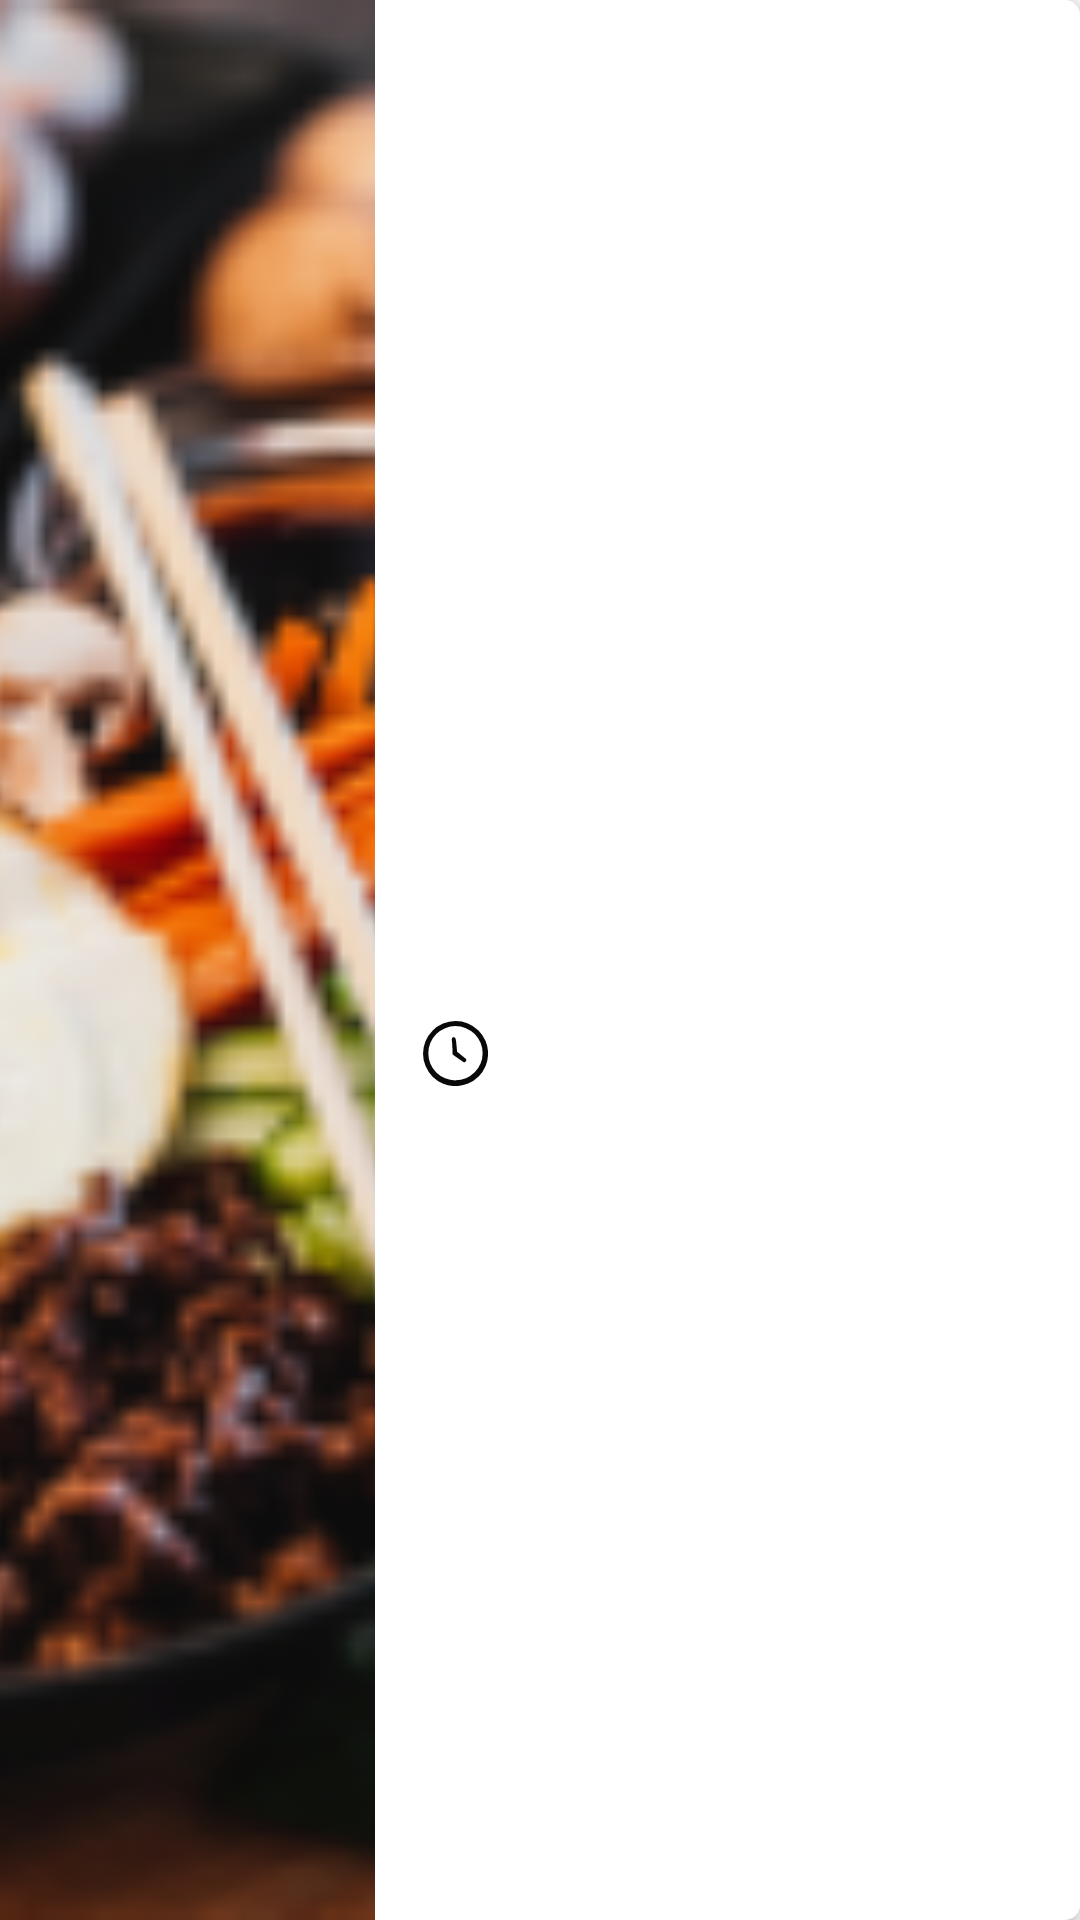

Named icons in this screenshot (1080w x 1920h) and their centers, (x=x, y=y):
clock: (x=455, y=1053)
